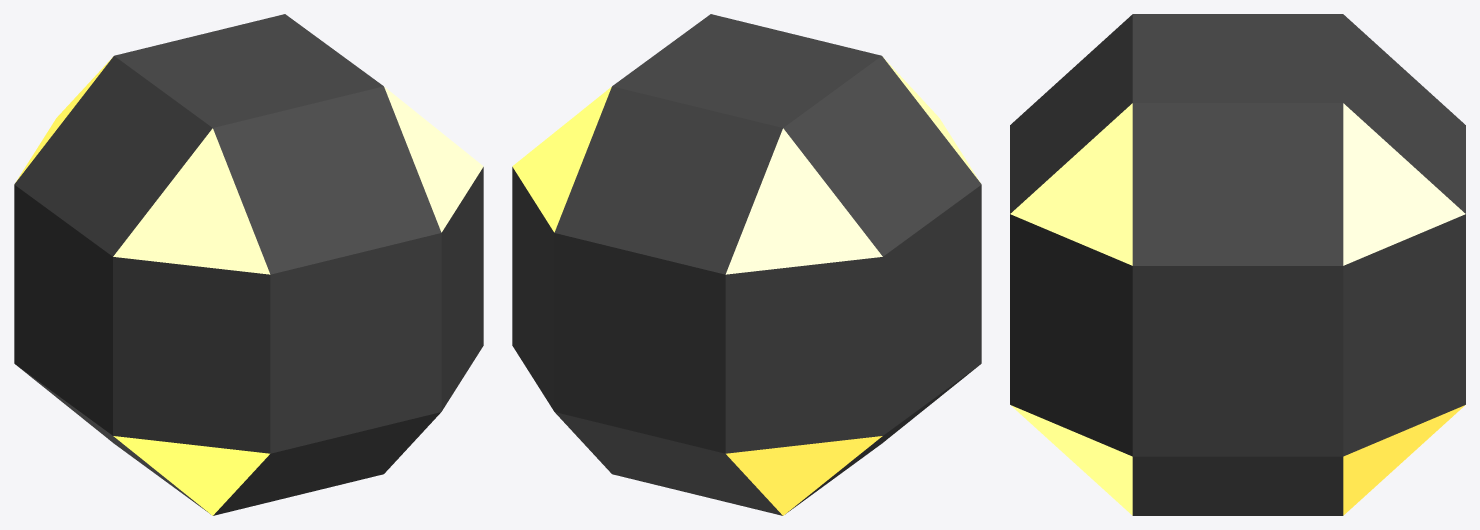
Rendered from ball.fbx.
3 renders of one model, left to right at view 1: azimuth 30°, elevation 25°; view 2: azimuth 150°, elevation 25°; view 3: azimuth 270°, elevation 25°, orthographic. The views are drawn at different scales.
Visible parts, largest first — view 1: Ball; view 2: Ball; view 3: Ball.
Boxes of the visible parts, <box> form: Ball: <box>14,14,483,515</box>; Ball: <box>512,14,981,515</box>; Ball: <box>1010,14,1465,515</box>.
Size of the model in its own units: 143 by 143 by 143.
